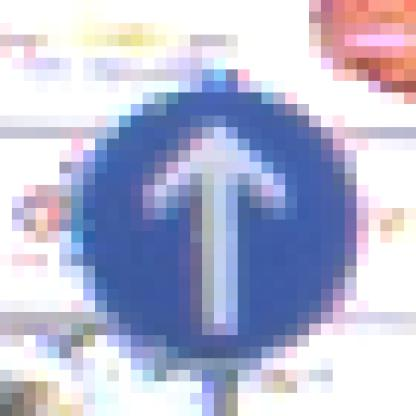AheadOnly: (61, 59, 358, 359)
